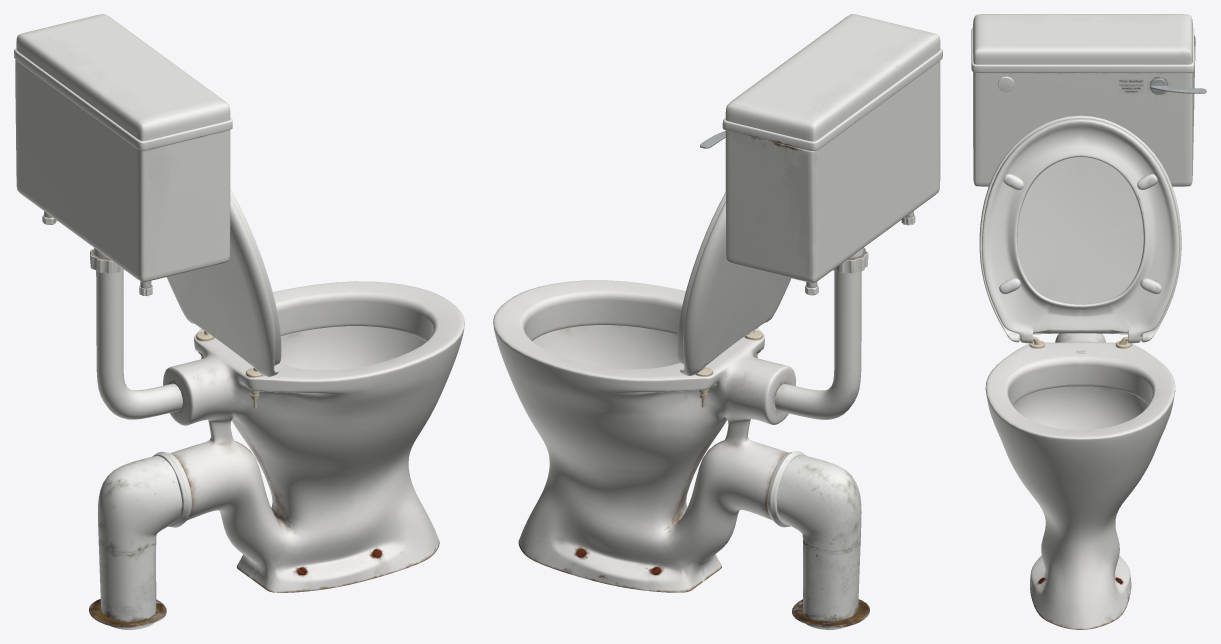
The model's file is toilet.glb.
3 renders of one model, left to right at view 1: azimuth 30°, elevation 25°; view 2: azimuth 150°, elevation 25°; view 3: azimuth 270°, elevation 25°, orthographic. The views are drawn at different scales.
Parts seen in each view (by area): view 1: toiletbowl_low, toiletbox_low, toiletpipe_low, toiletlid_low, toiletwaterpipe_low, toiletbowl2_low, toiletboxskirt_low, lid1_low, toiletpipeseal_low, toiletwasteskirt_low; view 2: toiletbowl_low, toiletbox_low, toiletpipe_low, toiletlid_low, toiletwaterpipe_low, toiletbowl2_low, toiletboxskirt_low, lid1_low, toiletpipeseal_low, toiletwasteskirt_low; view 3: toiletbowl_low, toiletbox_low, lid1_low, toiletlid_low, toiletbowl2_low, toiletboxskirt_low, toiletpads_low, toiletlever_low.
Part boxes in pixels (<box>): toiletbowl_low: <box>163,281,464,592</box>; toiletbox_low: <box>15,14,230,281</box>; toiletpipe_low: <box>98,455,182,629</box>; toiletlid_low: <box>166,198,278,376</box>; toiletwaterpipe_low: <box>96,270,182,419</box>; toiletbowl2_low: <box>279,326,425,369</box>; toiletboxskirt_low: <box>14,48,232,150</box>; lid1_low: <box>201,189,281,365</box>; toiletpipeseal_low: <box>152,451,191,527</box>; toiletwasteskirt_low: <box>89,599,166,627</box>; toiletbowl_low: <box>493,280,795,592</box>; toiletbox_low: <box>725,14,940,282</box>; toiletpipe_low: <box>777,455,861,629</box>; toiletlid_low: <box>680,201,791,375</box>; toiletwaterpipe_low: <box>775,270,861,419</box>; toiletbowl2_low: <box>532,325,679,369</box>; toiletboxskirt_low: <box>722,48,942,150</box>; lid1_low: <box>677,192,757,364</box>; toiletpipeseal_low: <box>767,451,806,527</box>; toiletwasteskirt_low: <box>792,599,869,627</box>; toiletbowl_low: <box>985,333,1175,629</box>; toiletbox_low: <box>973,14,1195,186</box>; lid1_low: <box>981,118,1179,343</box>; toiletlid_low: <box>979,115,1181,342</box>; toiletbowl2_low: <box>1012,386,1148,429</box>; toiletboxskirt_low: <box>971,27,1194,73</box>; toiletpads_low: <box>999,174,1161,294</box>; toiletlever_low: <box>1150,78,1206,94</box>.
Size of the model in its own units: 71.45 by 101 by 45.09.
Materials: 1 (1 with a texture image).
